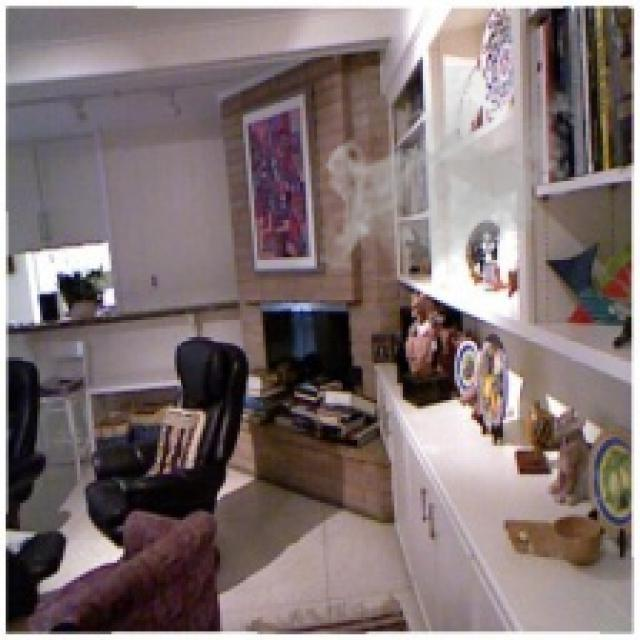Smoke: (320, 66, 586, 280)
